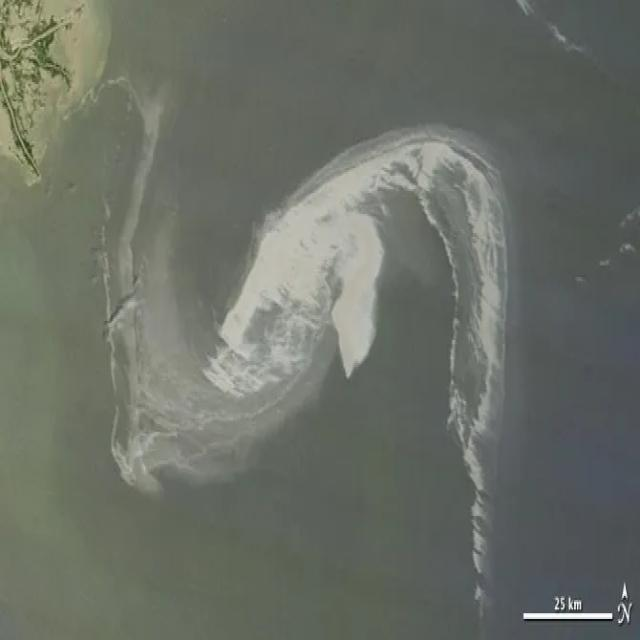oil spill: (103, 109, 511, 578)
